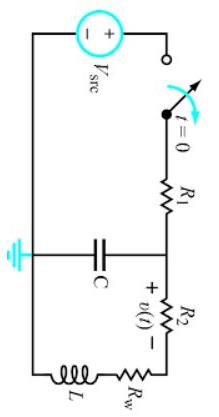Capacitor: (76, 223, 120, 276)
